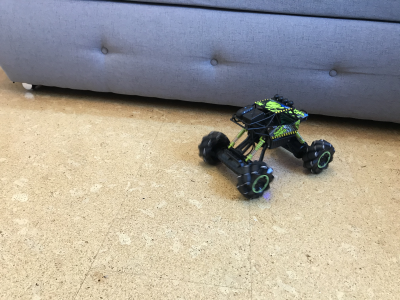remote control car: (197, 88, 337, 202)
